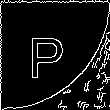P_N: (35, 29, 75, 81)
